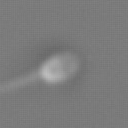normal: (1, 65, 38, 99)
